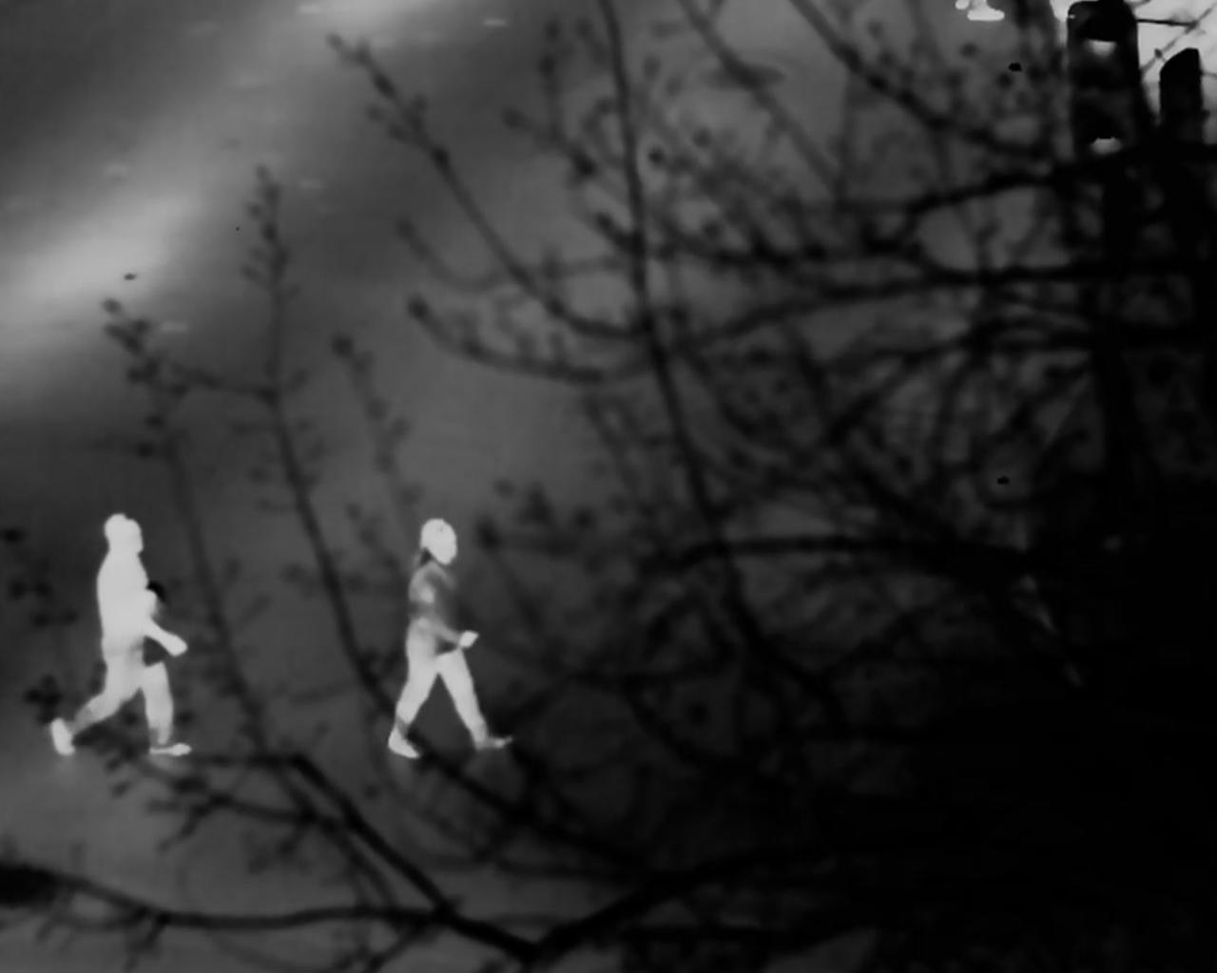person: (68, 514, 186, 753), (393, 506, 502, 752)
